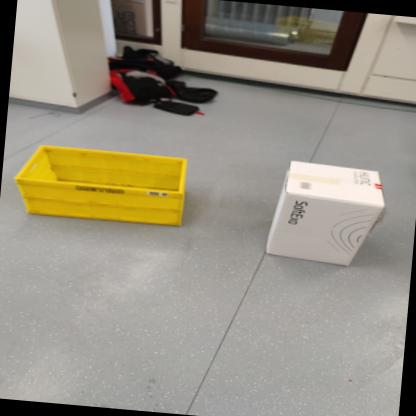box: (255, 144, 399, 288), (4, 138, 207, 240)
